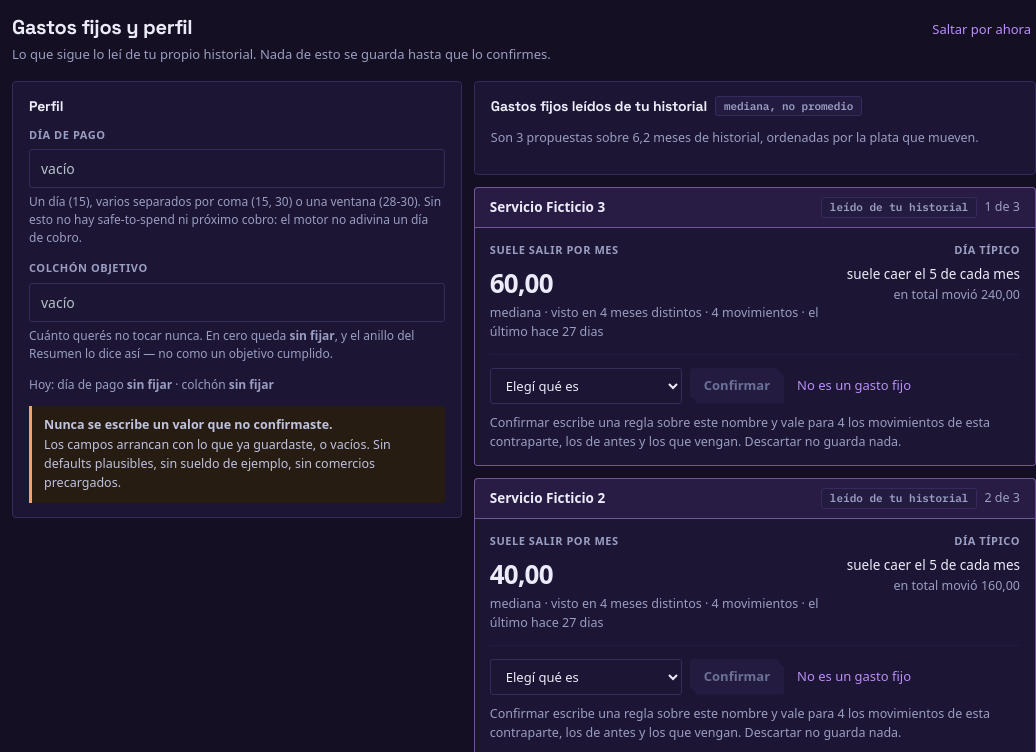
nada se guarda sin confirmación explícita (criterio 4) › si el motor rechaza, la propuesta se queda y se muestra el motivo
This screenshot has width=1036, height=752.
Select "Servicios" in the dropdown with test id "recurring-selector" below "en total movió 240,00": (586, 386) [490,368,682,404]
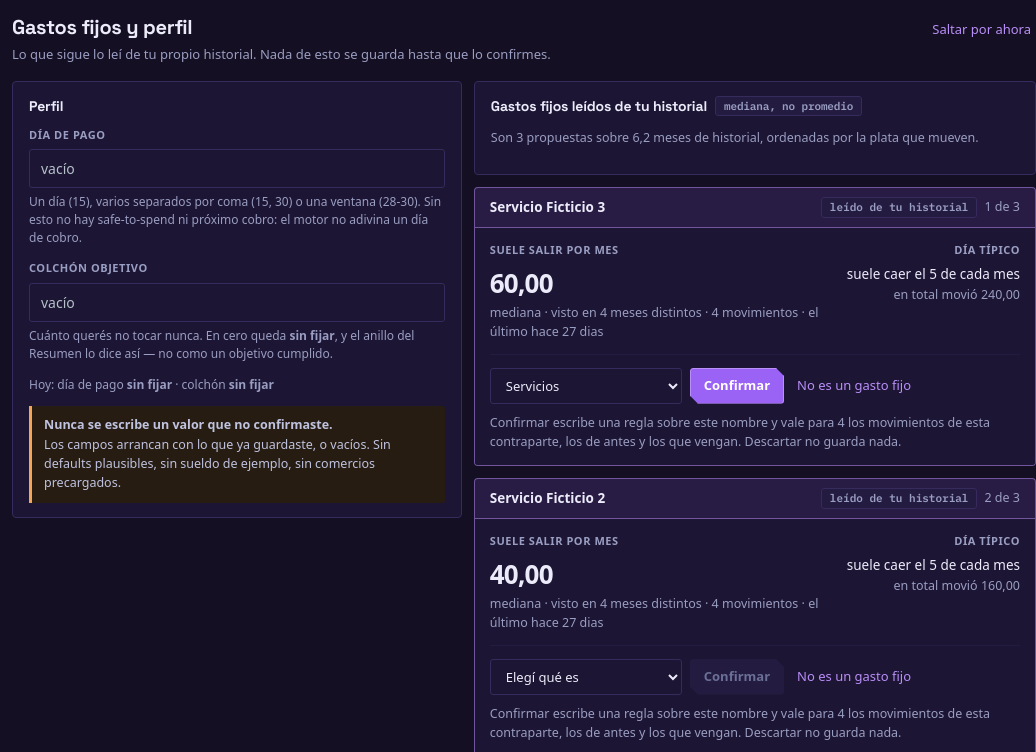
Click the button with test id "recurring-confirmar" below "en total movió 240,00": (737, 386) [690,368,784,404]
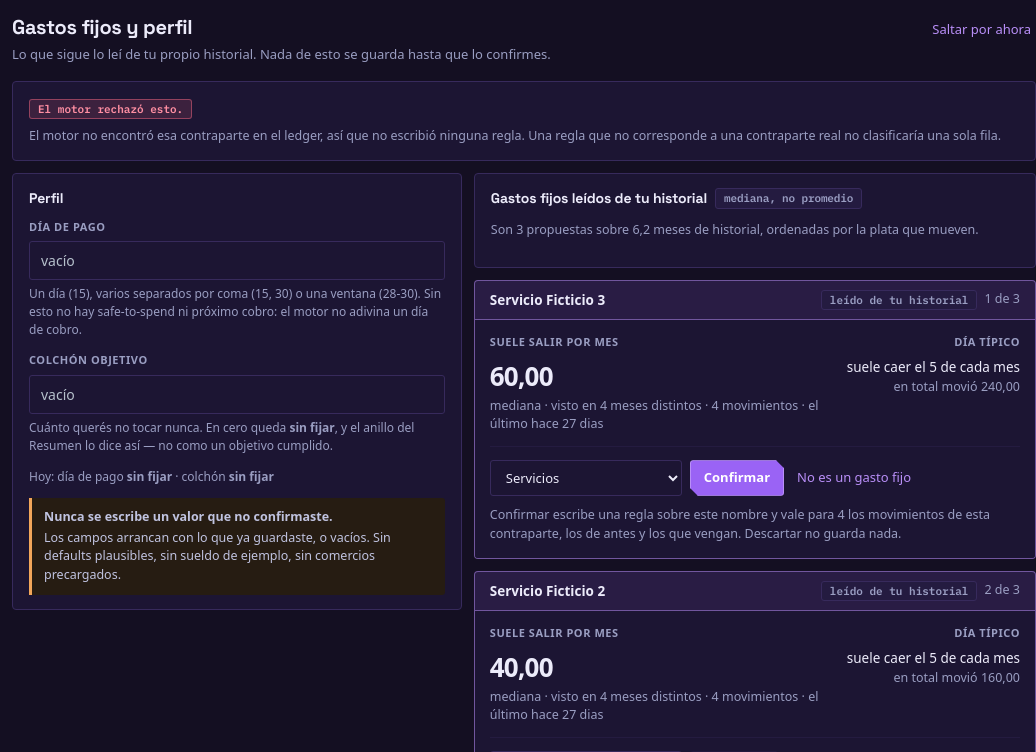
Check: the element with test id "alta-efecto" shows "no encontró esa contraparte", box [29,127,1001,144]
